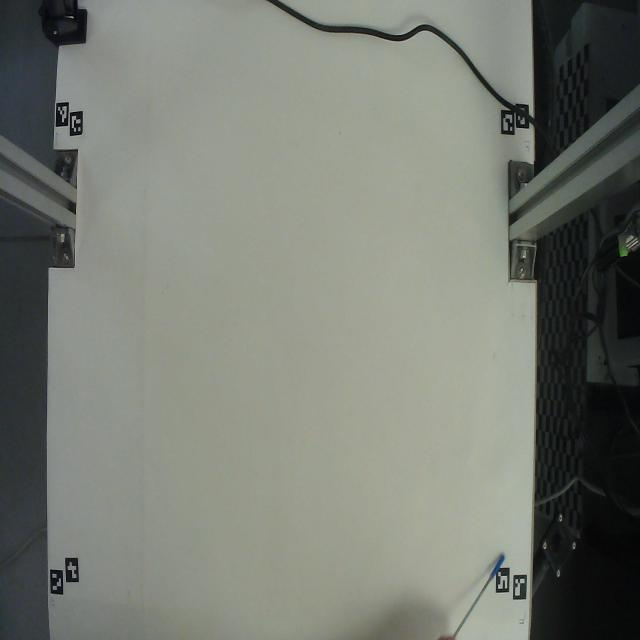Pres: (446, 536, 515, 640)
